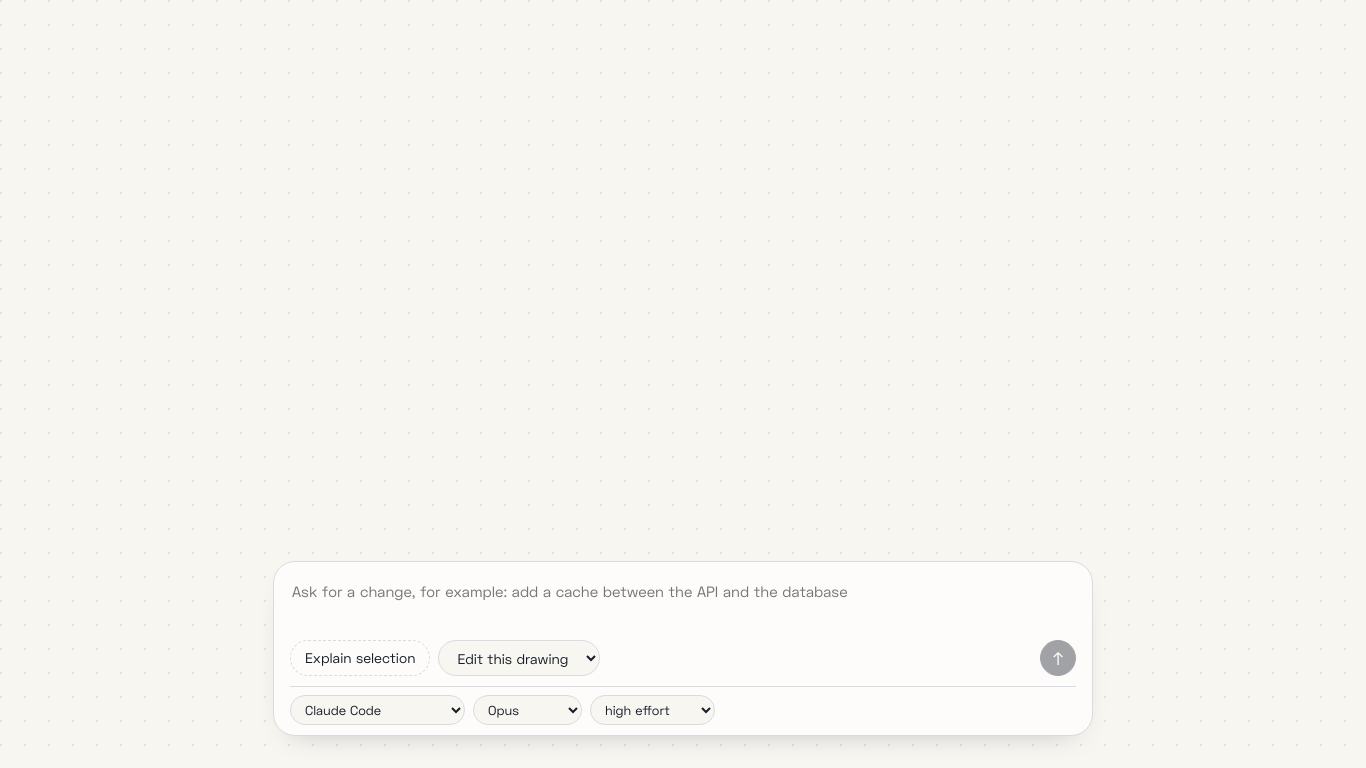
Test: Assistant › keeps saved settings and the composer usable when refreshing providers fails
The width and height of the screenshot is (1366, 768).
Select "low effort" in the dropdown named "Effort" at coordinates (652, 710), box [590,695,715,725]
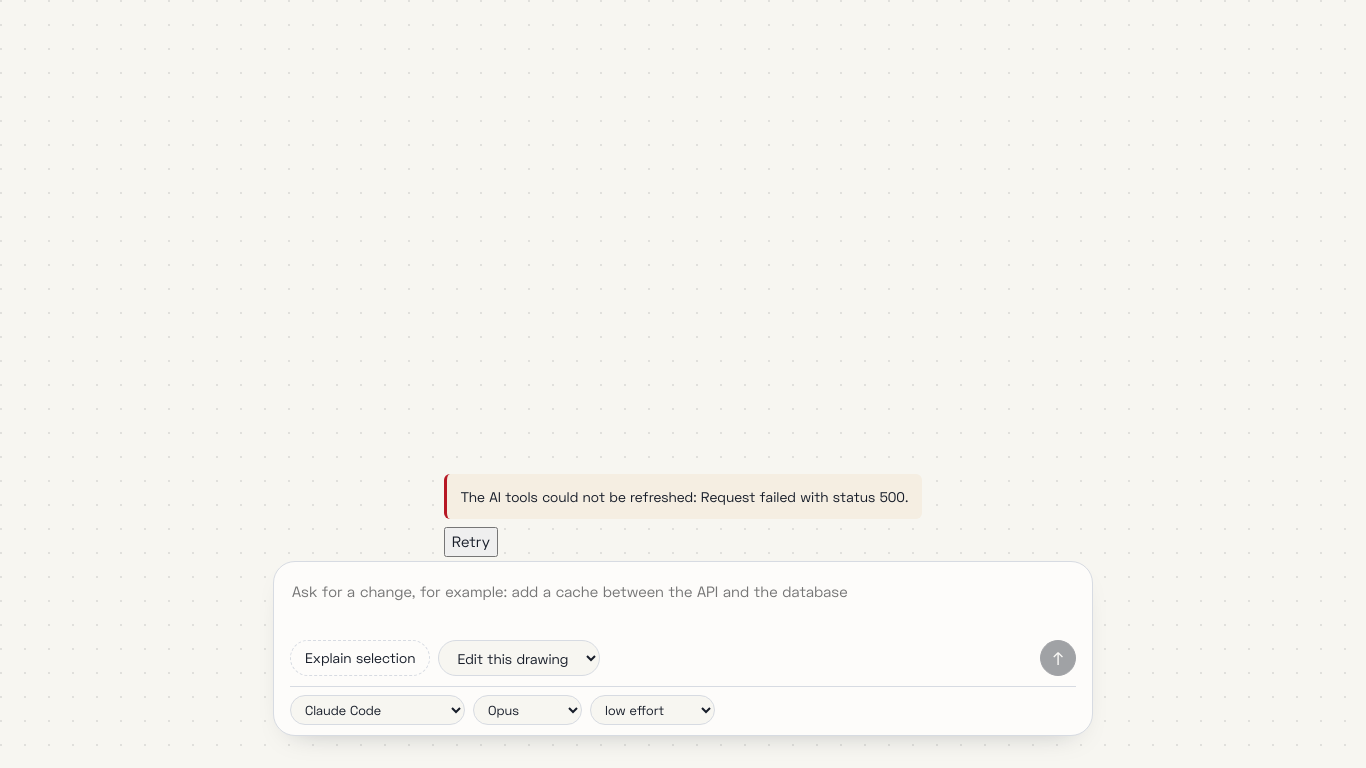
Check: the dropdown named "Model" shows "Opus", box [473,695,582,725]
Check: the message shows "could not be refreshed", box [461,488,701,505]
